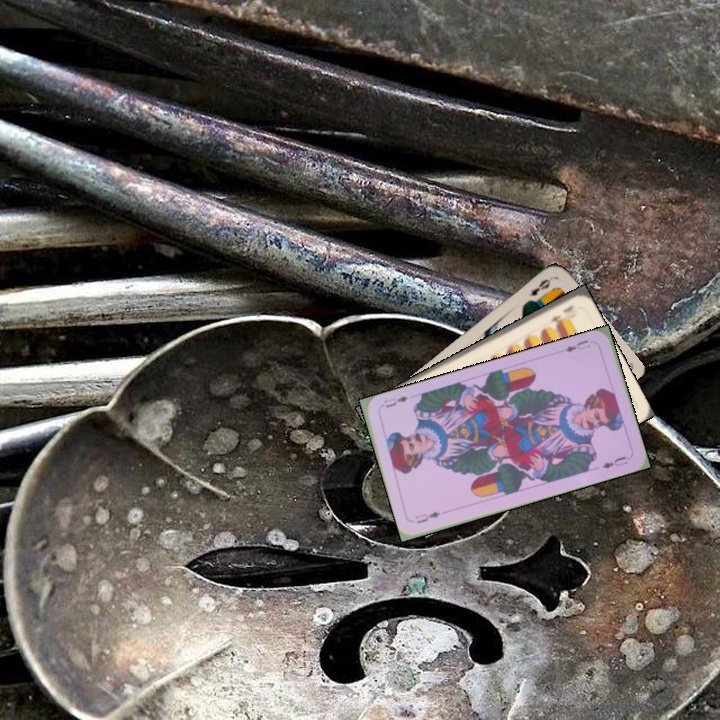E10: (545, 301, 576, 325)
EO: (523, 273, 555, 305)
EU: (561, 335, 593, 355), (411, 508, 443, 526)
